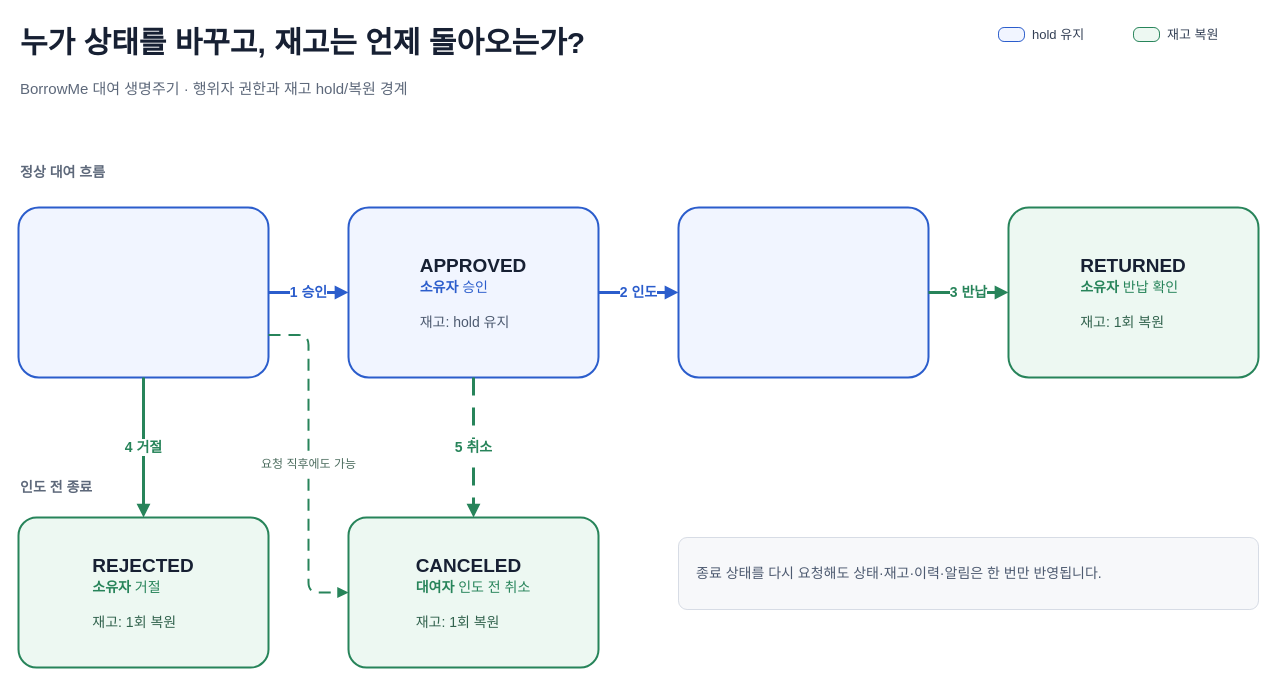
Some shapes in this 1287 by 685 pixel diagram are drawn without their labels. Each missing label, with the box of its shape:
BORROWED 소유자 인도 확인 재고: hold 유지: (677, 206, 929, 378)
REQUESTED 대여자 요청 재고: 요청 수량 hold: (17, 206, 269, 378)
